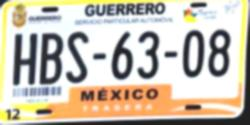License_Plate: (0, 0, 246, 121)
